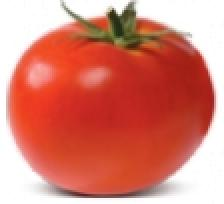tomato: (9, 17, 215, 194)
